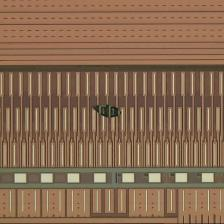PARTICLE: (94, 101, 126, 122)
